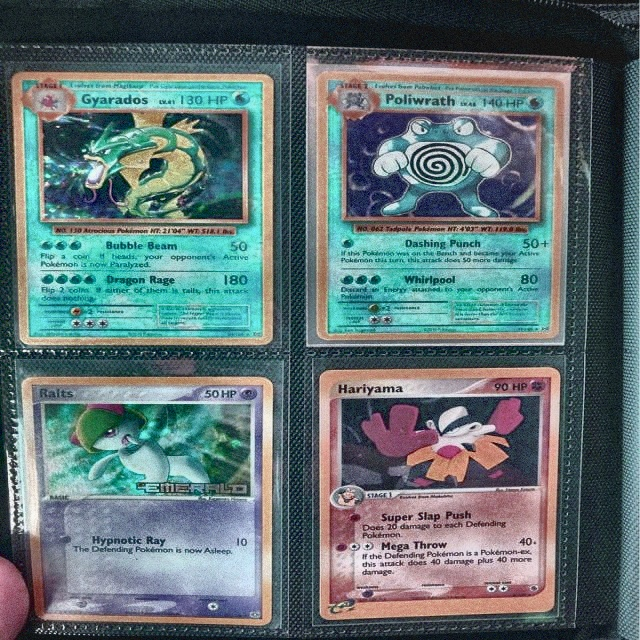card: (7, 70, 275, 346), (314, 69, 565, 340), (19, 375, 274, 626), (318, 365, 562, 621)
